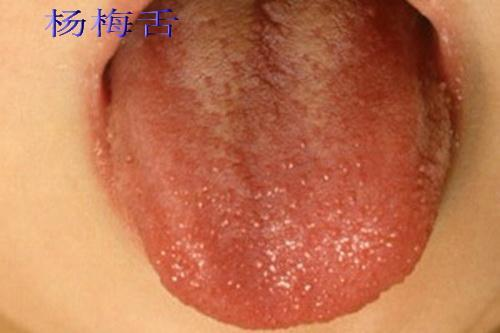hongshe: (111, 1, 450, 328)
